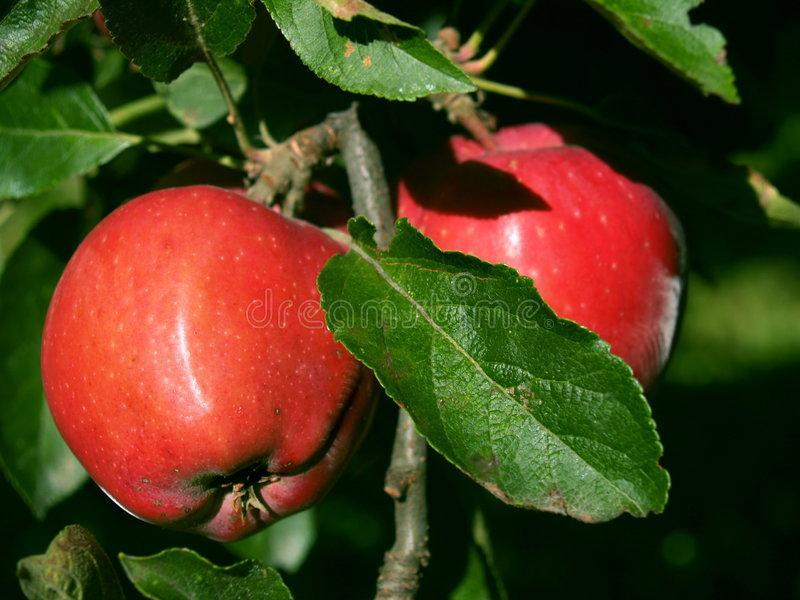apple: (40, 183, 379, 541), (396, 121, 690, 388)
